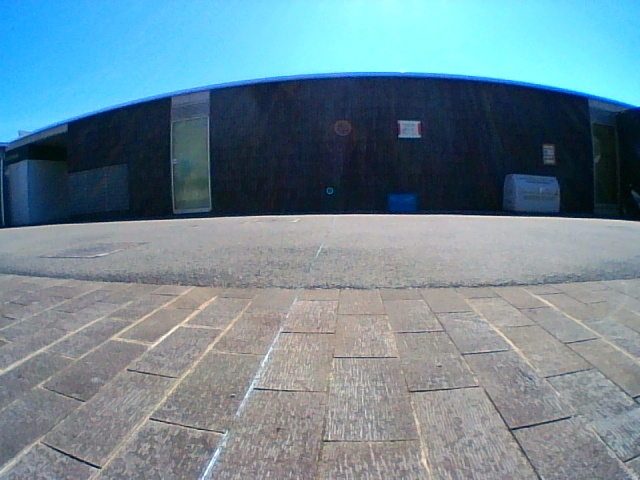blue_box: (389, 194, 414, 214)
